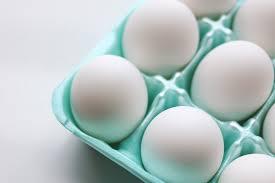eggs: (66, 54, 145, 131), (136, 108, 216, 180), (202, 35, 265, 114), (127, 3, 190, 70)
